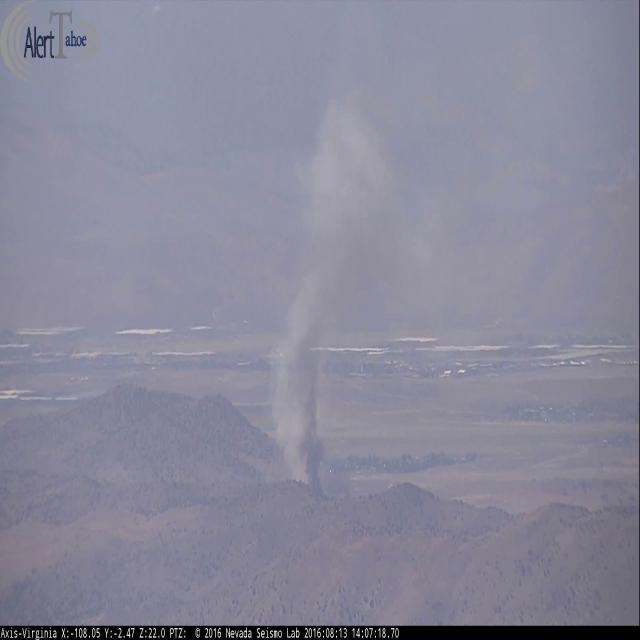smoke: (274, 90, 448, 488)
